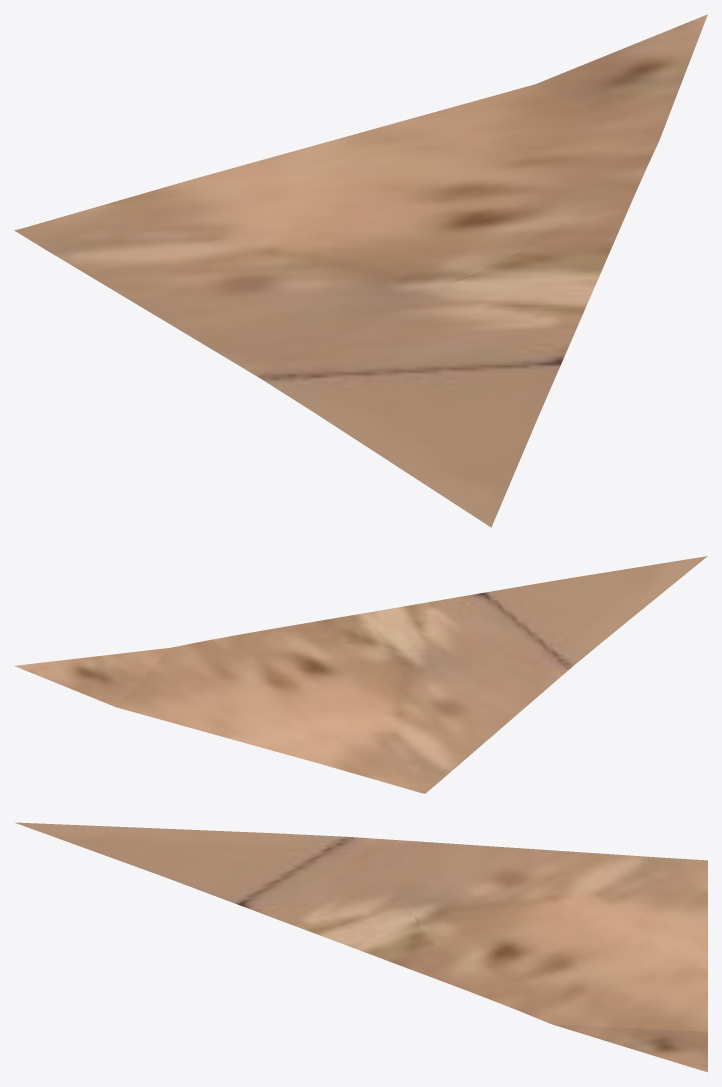
3 renders of one model, top to bottom at view 1: azimuth 30°, elevation 25°; view 2: azimuth 150°, elevation 25°; view 3: azimuth 270°, elevation 25°, orthographic. The views are drawn at different scales.
Bounding box in the file's own units: 0.8259 × 0.0593 × 0.9841.
1 material, 1 textured.
